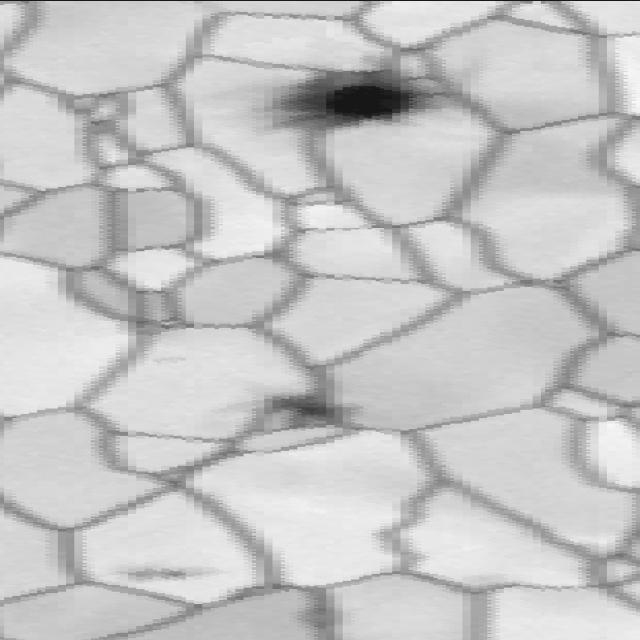good_void: (196, 57, 461, 139), (212, 382, 356, 431), (106, 565, 221, 587), (148, 352, 189, 365)
